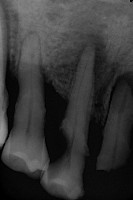Dental Caries: (67, 32, 120, 123), (0, 0, 19, 77)
Furcation Involvement: (109, 71, 133, 104)
